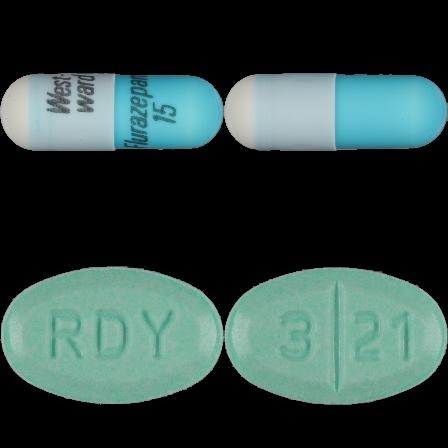63629-3034: (0, 0, 224, 224)
